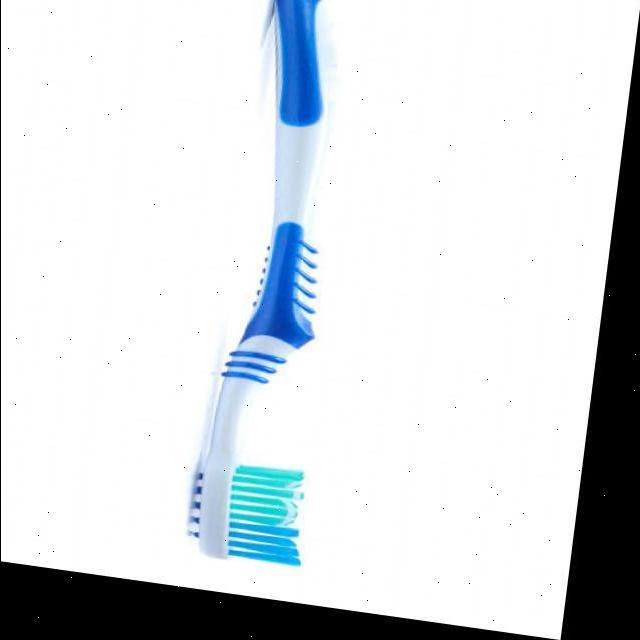toothbrush: (186, 1, 380, 584)
